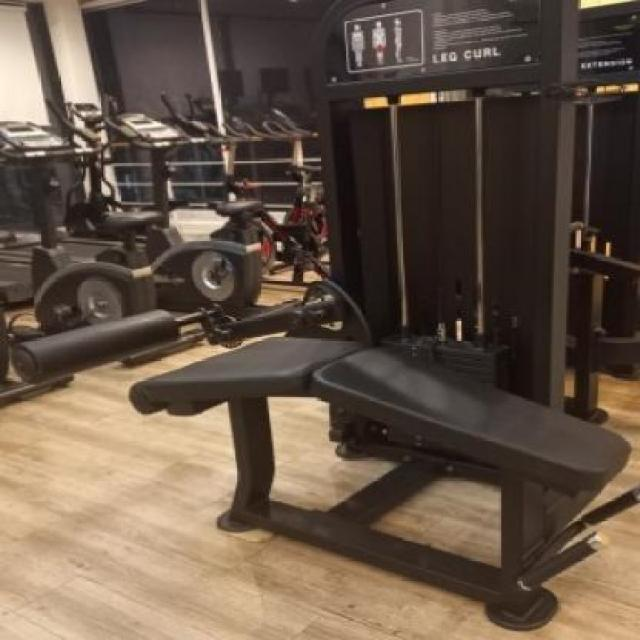reg curl machine: (3, 0, 640, 634)
